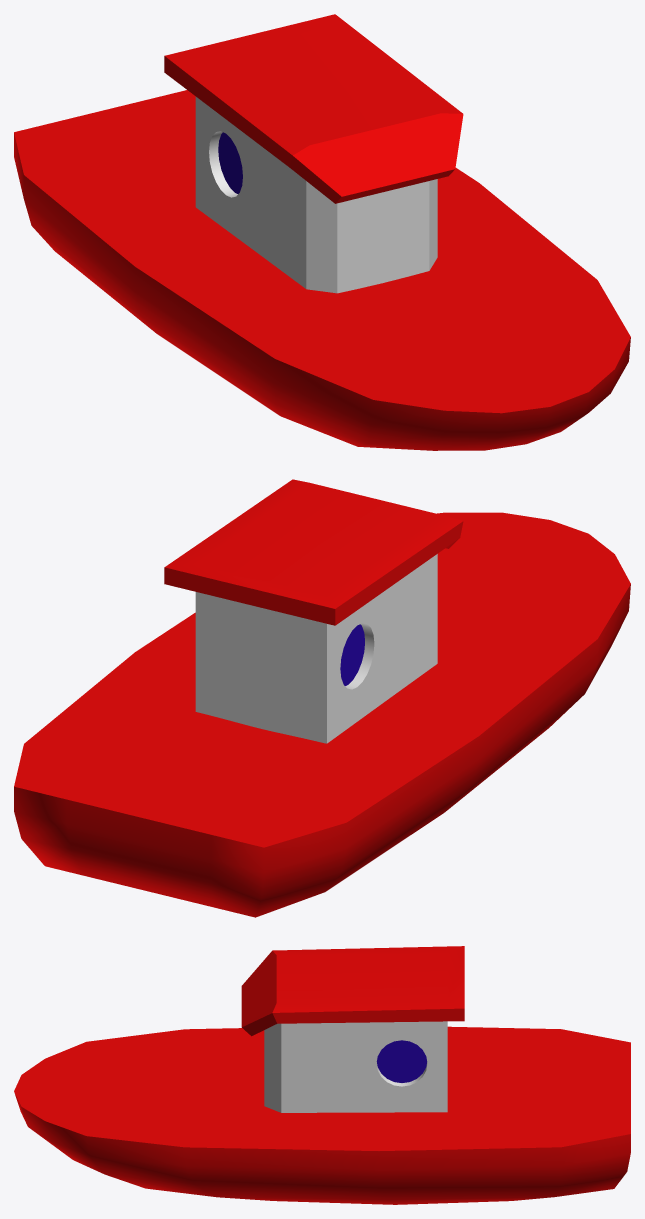
The model's file is Boat3.fbx.
3 renders of one model, top to bottom at view 1: azimuth 30°, elevation 25°; view 2: azimuth 150°, elevation 25°; view 3: azimuth 270°, elevation 25°, orthographic. The views are drawn at different scales.
Visible parts, largest first — view 1: polySurface3, polySurface12; view 2: polySurface3, polySurface12; view 3: polySurface3, polySurface12.
Boxes of the visible parts, box(x1,y1,x2,y2) form: polySurface3: box(14, 90, 630, 450); polySurface12: box(164, 14, 463, 293); polySurface3: box(14, 512, 630, 917); polySurface12: box(164, 479, 463, 743); polySurface3: box(14, 1026, 630, 1204); polySurface12: box(241, 946, 464, 1112).
Size of the model in its own units: 0.0524 by 0.0371 by 0.1085.
